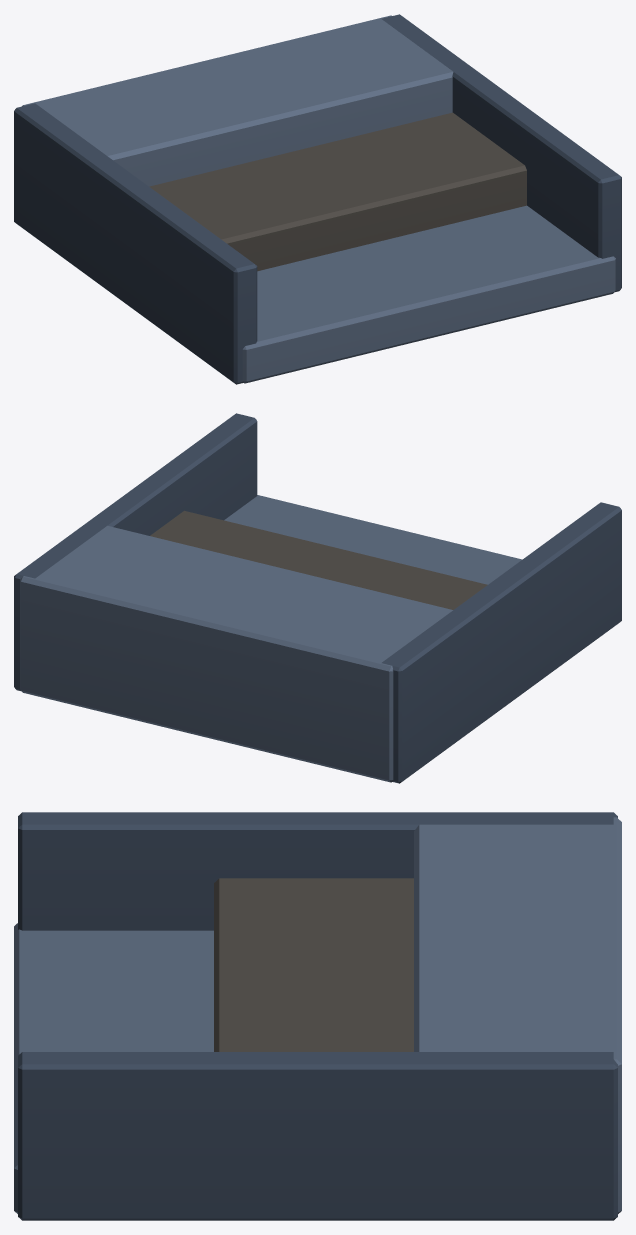
Rendered from stair_stone.glb.
3 views of the same model, one above another, from view 1: azimuth 30°, elevation 25°; view 2: azimuth 150°, elevation 25°; view 3: azimuth 270°, elevation 25° (orthographic). The views are drawn at different scales.
Visible parts, largest first — view 1: stair_stone; view 2: stair_stone; view 3: stair_stone.
Part boxes in pixels (x1,y1,x2,y2): stair_stone: (14, 14, 621, 384); stair_stone: (14, 413, 621, 783); stair_stone: (14, 812, 621, 1220).
Size of the model in its own units: 1.47 by 0.42 by 1.48.
